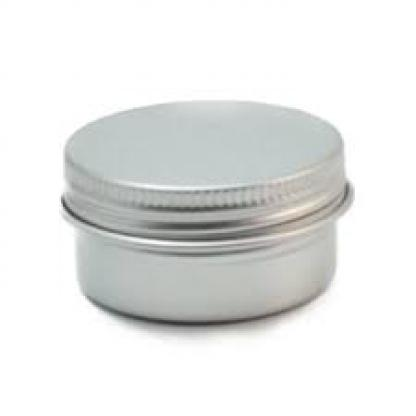Compsot: (59, 102, 353, 324)
